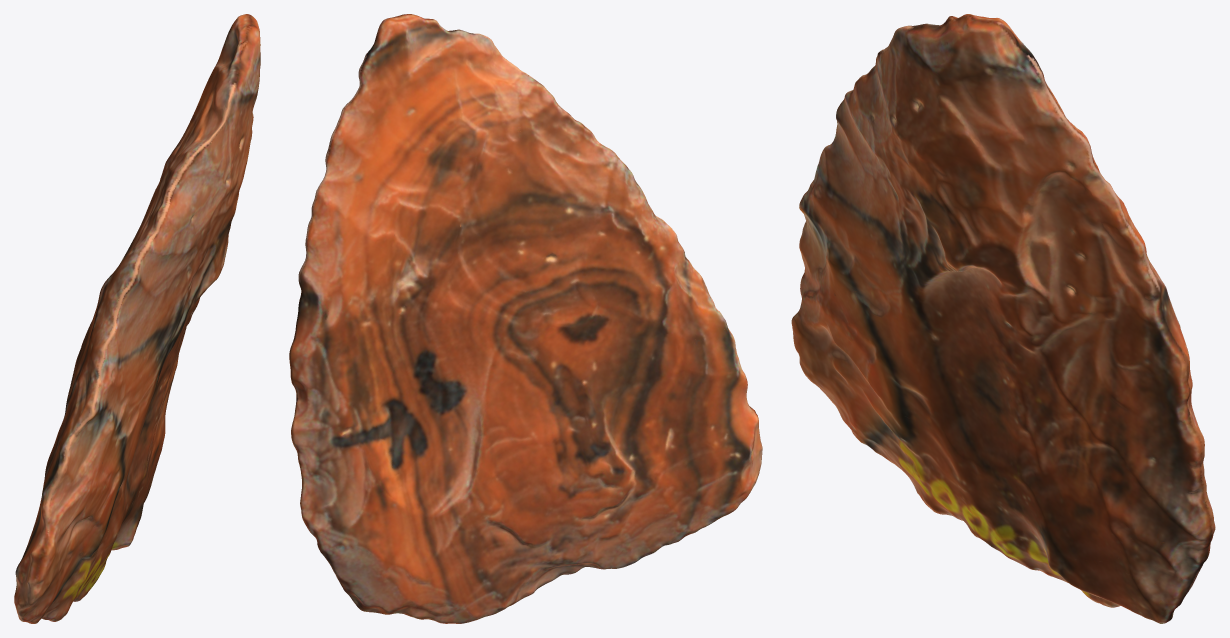
The picture shows the model from 3 angles, left to right: view 1: azimuth 30°, elevation 25°; view 2: azimuth 150°, elevation 25°; view 3: azimuth 270°, elevation 25°; orthographic projection. The views are drawn at different scales.
Parts seen in each view (by area): view 1: Node; view 2: Node; view 3: Node.
Part boxes in pixels (bbox=[...]): Node: bbox=[14, 14, 260, 623]; Node: bbox=[289, 14, 762, 623]; Node: bbox=[791, 14, 1215, 623].
Size of the model in its own units: 25.62 by 41.94 by 24.9.
1 material, 1 textured.
